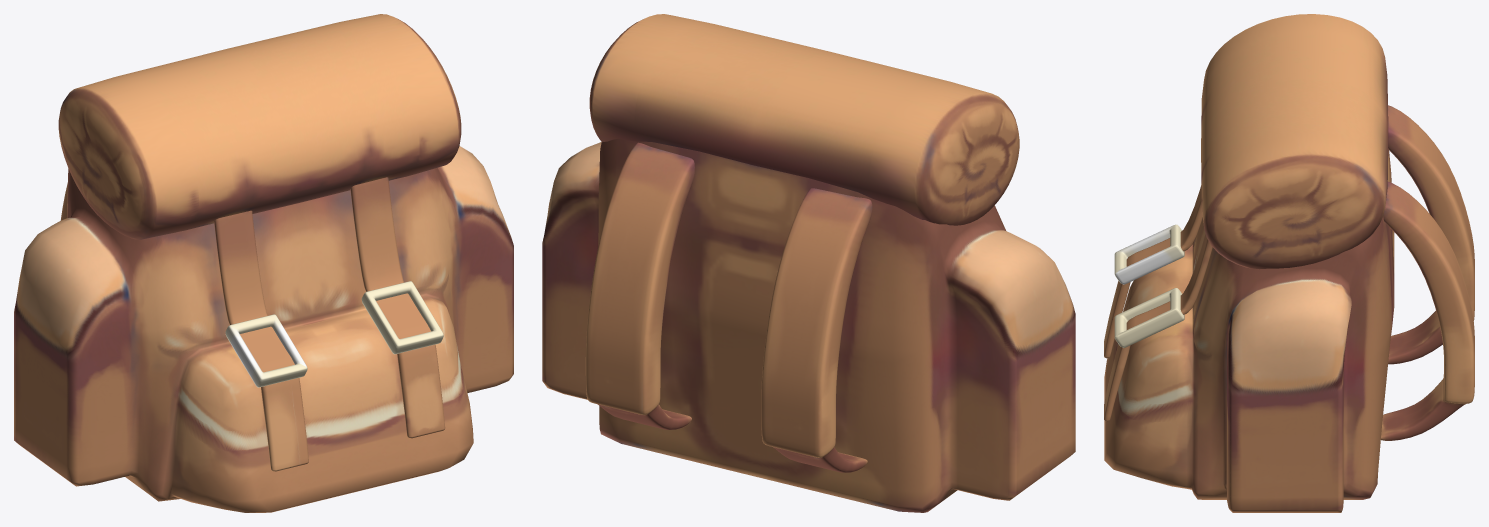
File: back_pack.glb
The picture shows the model from 3 angles, left to right: view 1: azimuth 30°, elevation 25°; view 2: azimuth 150°, elevation 25°; view 3: azimuth 270°, elevation 25°; orthographic projection. The views are drawn at different scales.
Visible parts, largest first — view 1: BackPack; view 2: BackPack; view 3: BackPack.
Boxes of the visible parts, x1,y1,x2,y2 form: BackPack: (14, 14, 513, 512); BackPack: (542, 14, 1075, 512); BackPack: (1104, 14, 1474, 512).
Bounding box in the file's own units: 97.83 × 77.55 × 74.47.
Materials: 1 (1 with a texture image).
